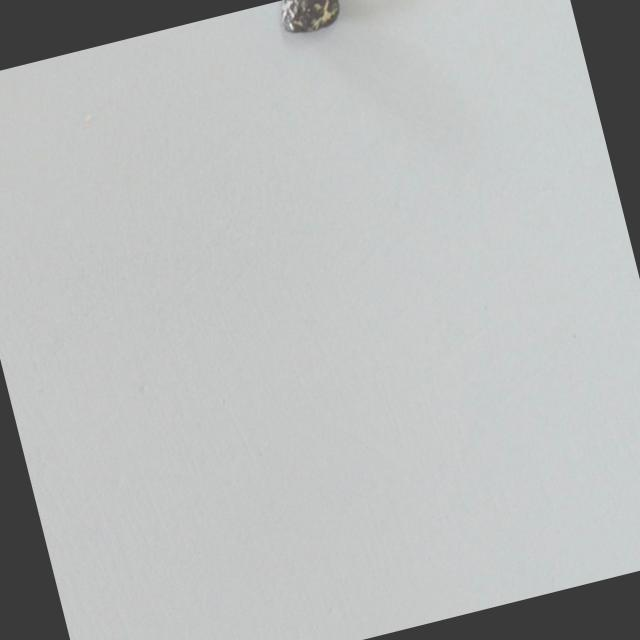cuerpos_extranos: (276, 0, 347, 38)
